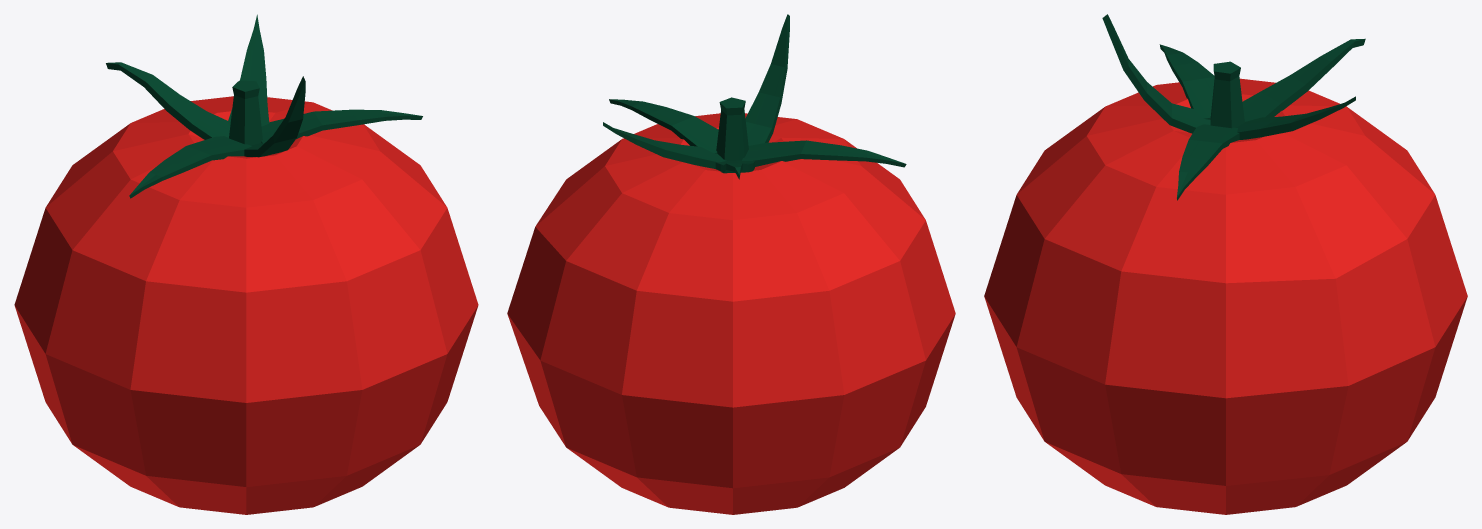
File: Tomatoe.fbx
The picture shows the model from 3 angles, left to right: view 1: azimuth 30°, elevation 25°; view 2: azimuth 150°, elevation 25°; view 3: azimuth 270°, elevation 25°; orthographic projection. The views are drawn at different scales.
Parts seen in each view (by area): view 1: Sphere001; view 2: Sphere001; view 3: Sphere001.
Boxes of the visible parts, left/top/right/bottom form: Sphere001: left=14, top=14, right=478, bottom=514; Sphere001: left=507, top=14, right=955, bottom=514; Sphere001: left=984, top=14, right=1467, bottom=514.
Bounding box in the file's own units: 8 × 8.4 × 8.
